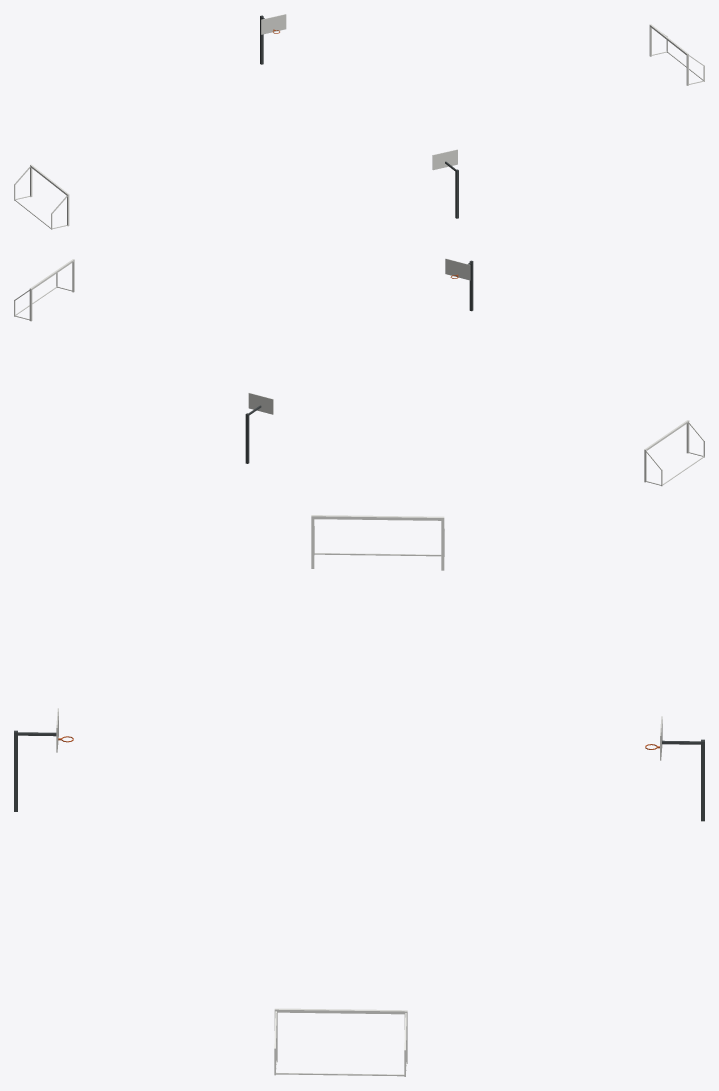
3 renders of one model, top to bottom at view 1: azimuth 30°, elevation 25°; view 2: azimuth 150°, elevation 25°; view 3: azimuth 270°, elevation 25°, orthographic. The views are drawn at different scales.
Visible parts, largest first — view 1: sports-campus; view 2: sports-campus; view 3: sports-campus.
Part boxes in pixels (bbox=[...]): sports-campus: bbox=[14, 14, 704, 229]; sports-campus: bbox=[14, 258, 704, 486]; sports-campus: bbox=[14, 515, 704, 1076].
Size of the model in its own units: 47.52 by 3.98 by 26.57.
